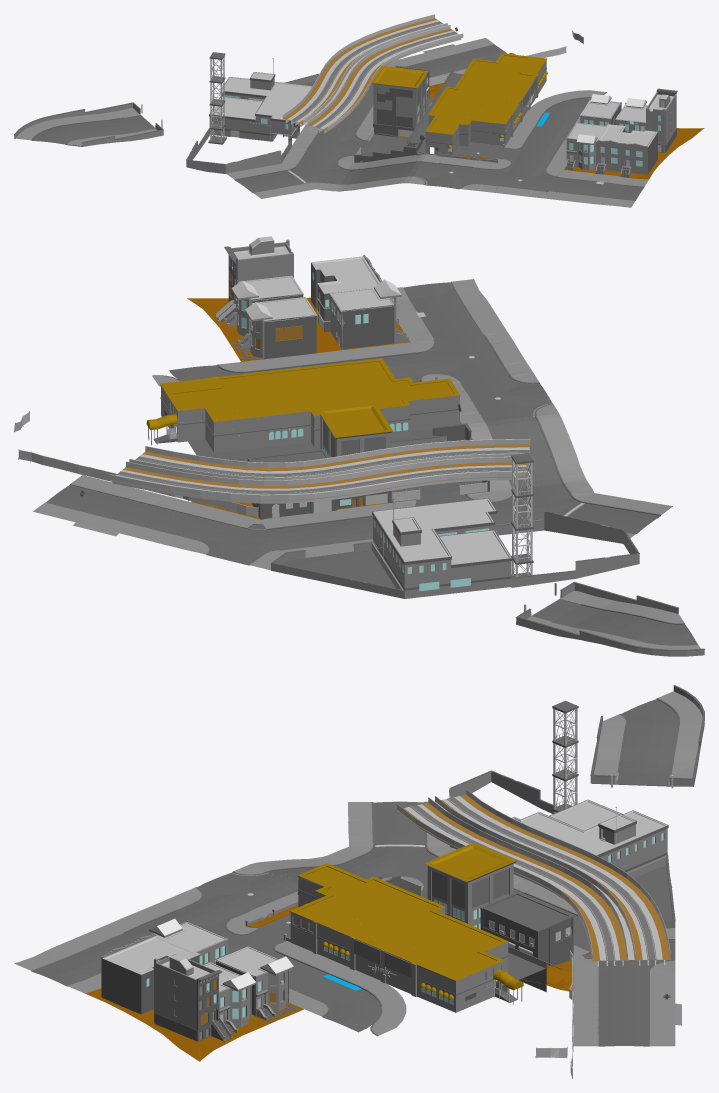
Rendered from bronx_e2_10.FBX.
The picture shows the model from 3 angles, top to bottom: view 1: azimuth 30°, elevation 25°; view 2: azimuth 150°, elevation 25°; view 3: azimuth 270°, elevation 25°; orthographic projection. The views are drawn at different scales.
Visible parts, largest first — view 1: unnamed, null; view 2: unnamed, null; view 3: unnamed, null.
Boxes of the visible parts, x1,y1,x2,y2 form: unnamed: [14, 14, 704, 207]; null: [284, 19, 523, 158]; unnamed: [14, 236, 704, 656]; null: [140, 374, 480, 588]; unnamed: [14, 685, 704, 1078]; null: [332, 831, 675, 993].
Size of the model in its own units: 208 by 32.85 by 162.
